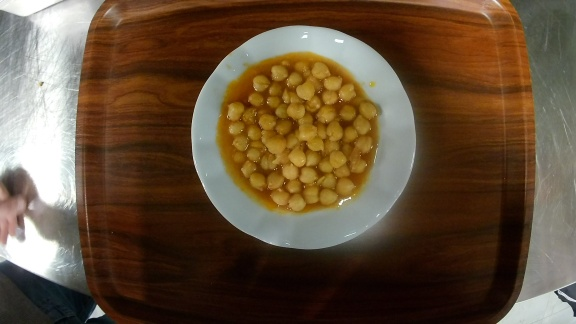sulunohut: (189, 24, 417, 251)
